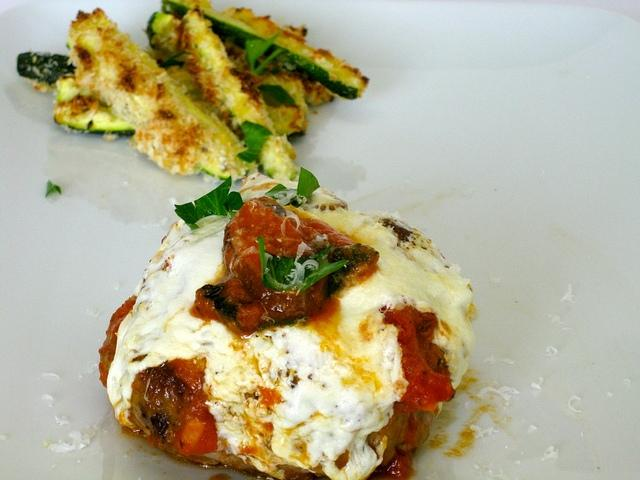tomato: (129, 356, 218, 457), (378, 305, 456, 415), (99, 295, 137, 387), (385, 448, 414, 478)
vegetable marrow: (54, 8, 240, 180), (182, 0, 298, 180), (160, 0, 370, 99), (261, 68, 309, 136), (18, 52, 76, 85), (146, 12, 174, 49), (46, 179, 61, 196)
